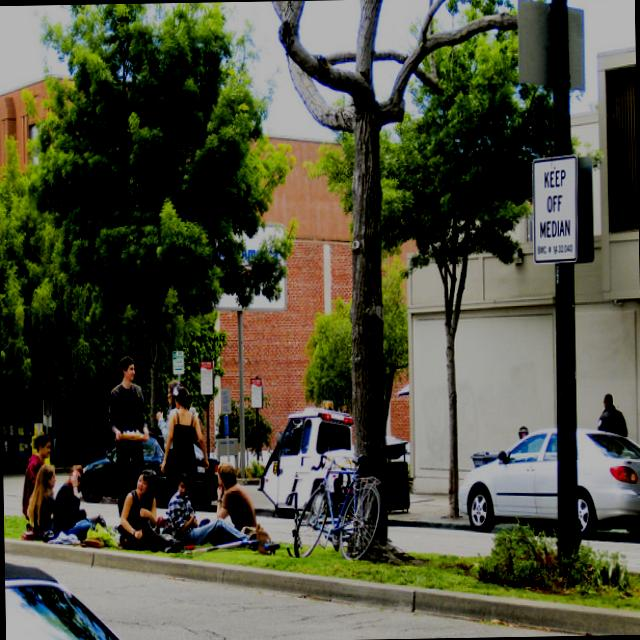Vehicle: (454, 430, 640, 525), (78, 432, 220, 509), (258, 406, 354, 510)
